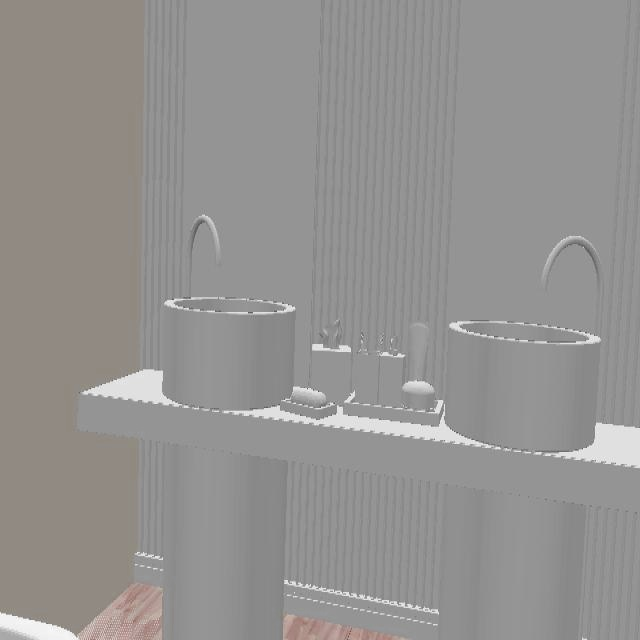washbasin: (442, 319, 594, 453), (159, 295, 297, 413)
